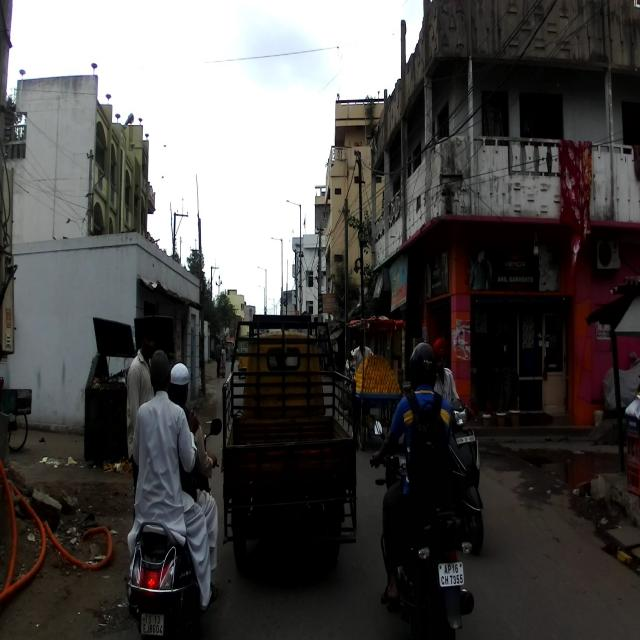autorickshaw: (220, 313, 359, 574)
motorcycle_bajaj: (368, 418, 476, 639)
scooter: (123, 416, 223, 639), (447, 396, 484, 558)
